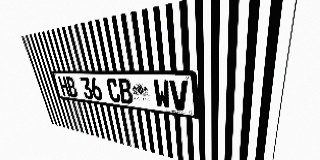3: (79, 77, 94, 100)
6: (89, 77, 103, 101)
B: (117, 78, 134, 105), (65, 77, 79, 98)
C: (106, 78, 122, 103)
H: (58, 76, 71, 97)
V: (169, 80, 189, 112)
W: (153, 79, 171, 109)
